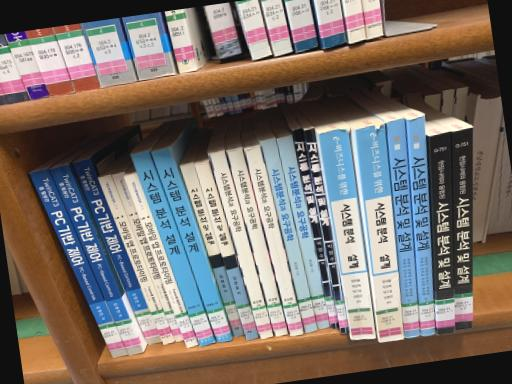book-spine: (29, 168, 128, 358), (49, 164, 144, 354), (73, 158, 162, 345), (131, 150, 215, 346), (151, 147, 233, 342), (98, 174, 175, 344), (124, 173, 198, 347), (209, 150, 274, 339), (112, 172, 184, 342), (319, 129, 376, 339), (226, 148, 288, 336), (195, 161, 259, 340), (245, 145, 304, 337), (180, 163, 245, 336), (261, 138, 318, 333), (355, 124, 404, 342), (277, 135, 330, 329), (292, 128, 339, 329), (304, 128, 349, 333), (386, 118, 419, 336), (407, 114, 435, 335), (429, 132, 455, 335), (451, 127, 473, 330)
